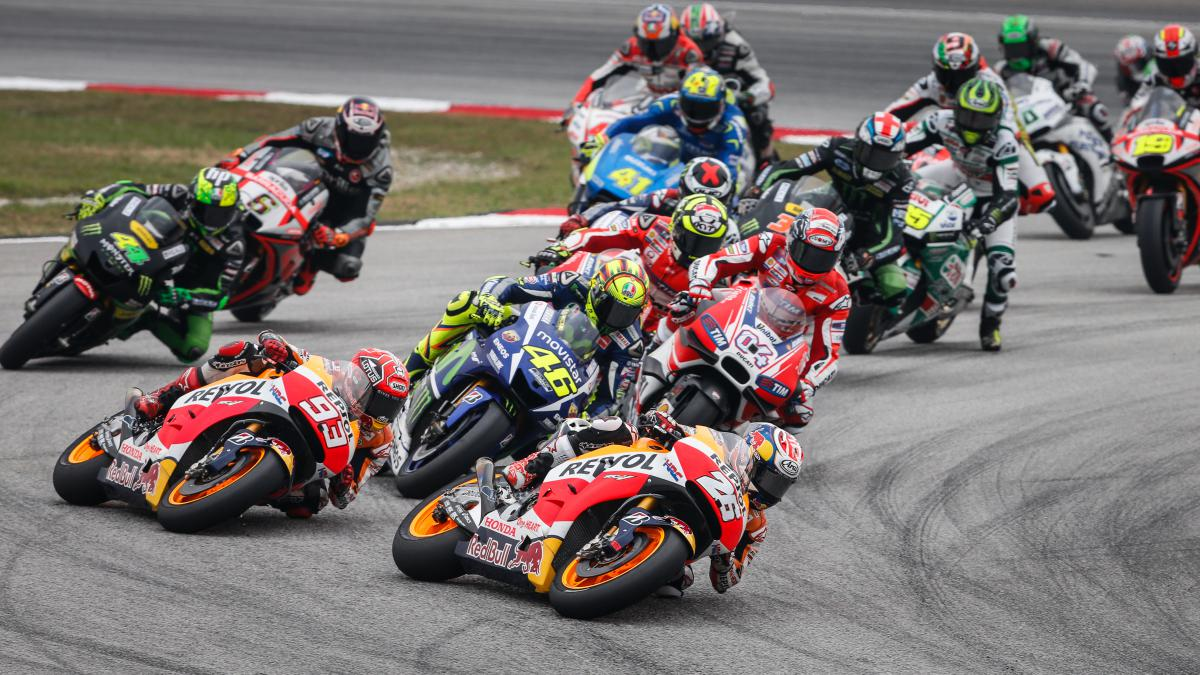helmet: (783, 195, 845, 284), (327, 89, 392, 170), (586, 244, 642, 332), (951, 69, 1005, 154), (1140, 4, 1194, 89), (185, 156, 242, 235), (624, 0, 690, 66), (987, 9, 1059, 69)
